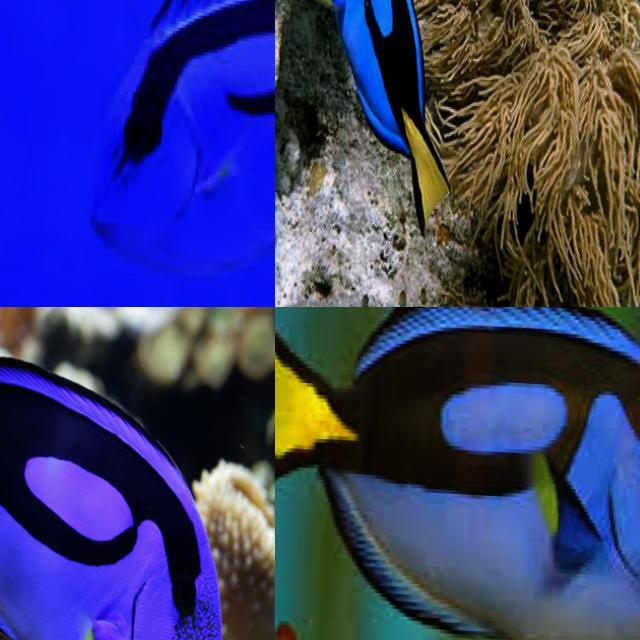BlueTang: (275, 307, 640, 640), (0, 357, 217, 640), (97, 0, 275, 278), (326, 5, 455, 219)
